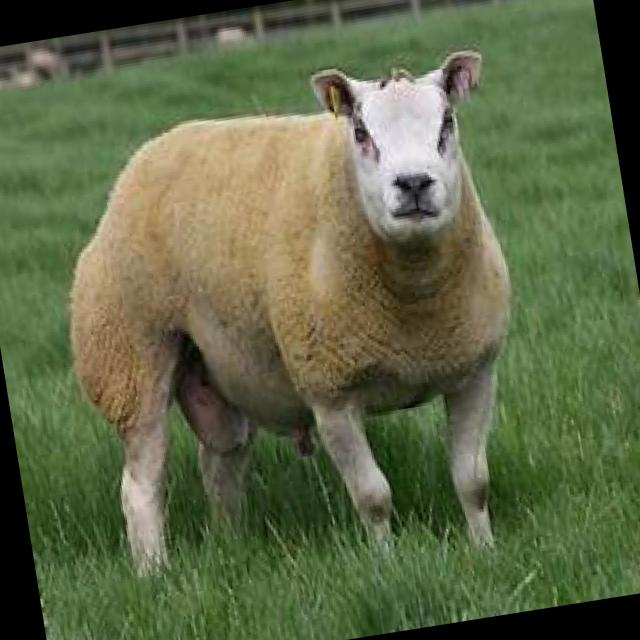animal: (32, 40, 561, 614)
